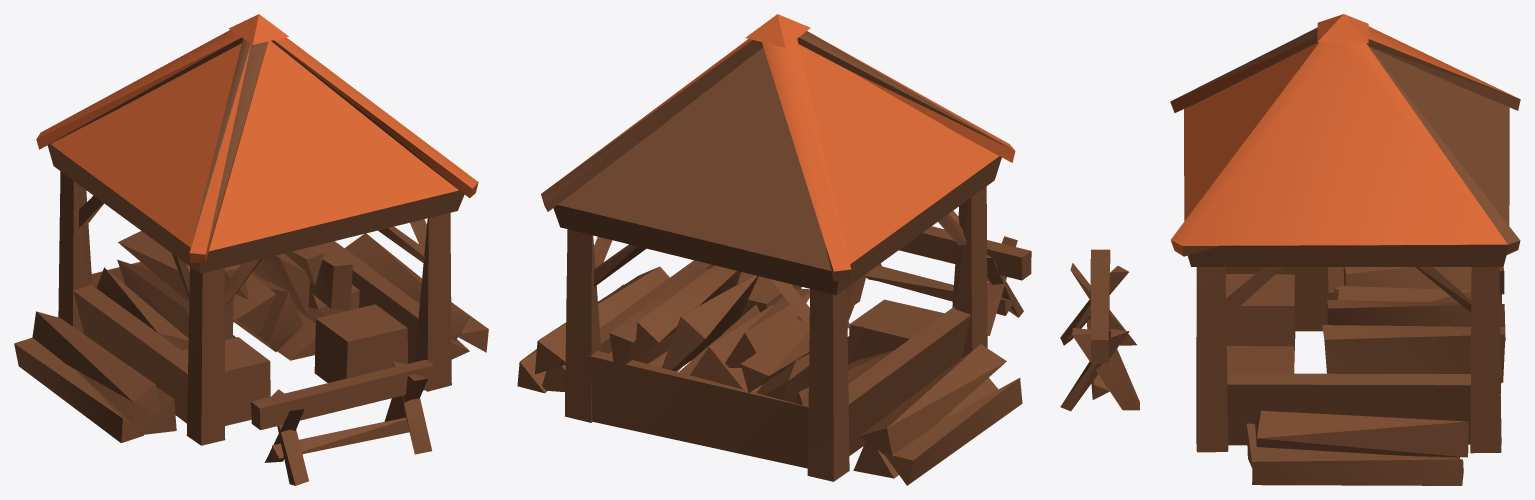
Rendered from supply22.3.glb.
3 views of the same model, side by side, from view 1: azimuth 30°, elevation 25°; view 2: azimuth 150°, elevation 25°; view 3: azimuth 270°, elevation 25° (orthographic). The views are drawn at different scales.
Visible parts, largest first — view 1: supply22; view 2: supply22; view 3: supply22.
Boxes of the visible parts, bbox=[...] form: supply22: bbox=[14, 14, 488, 485]; supply22: bbox=[517, 14, 1031, 485]; supply22: bbox=[1060, 14, 1520, 485].
Bounding box in the file's own units: 1.89 × 1.71 × 1.9.
